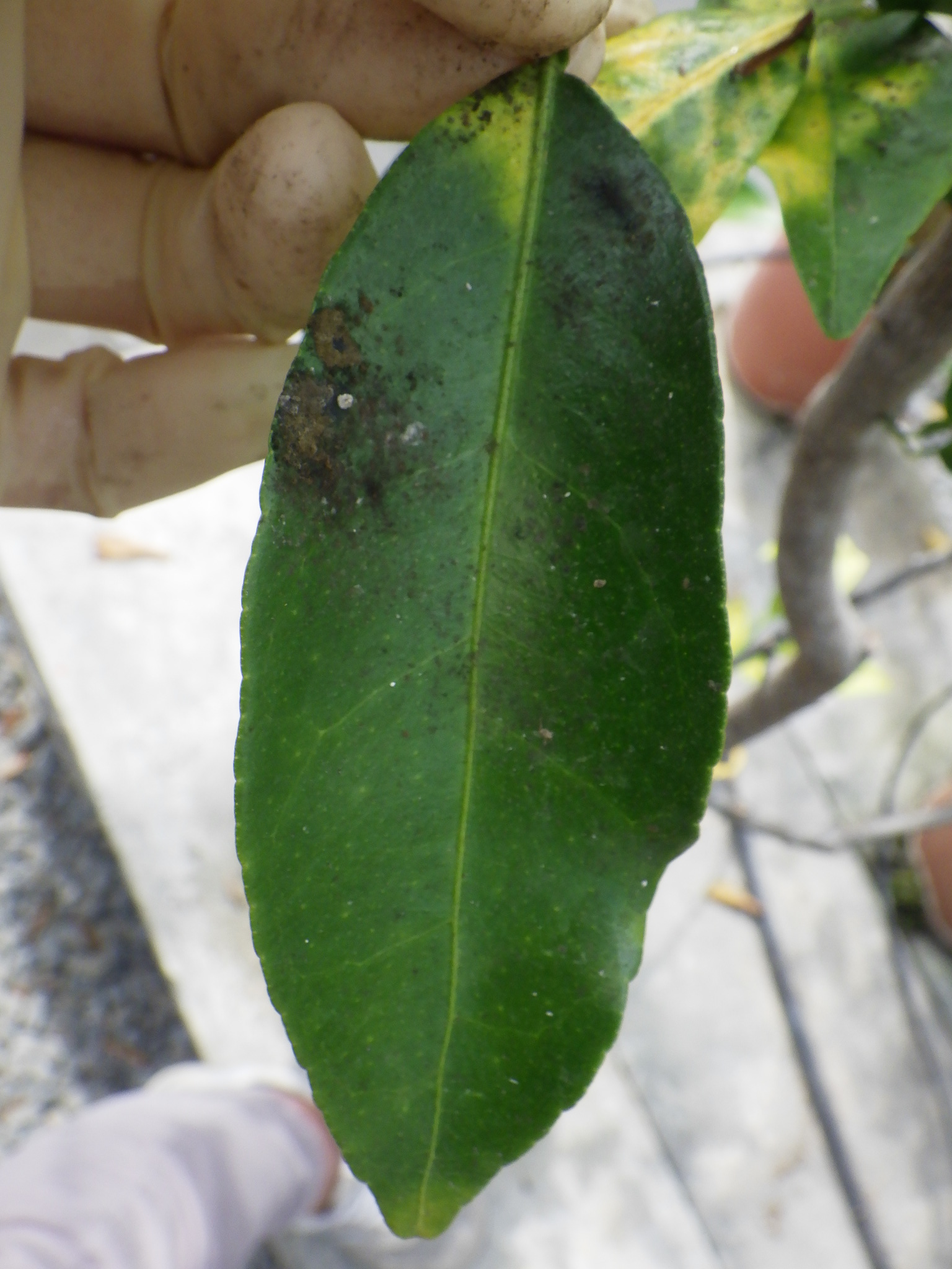Sooty_Mold: (235, 58, 729, 1234)
